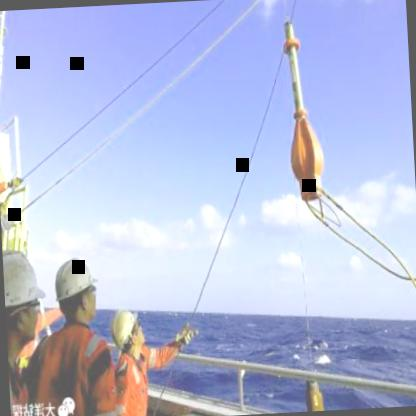helmet: (2, 246, 45, 348), (50, 249, 102, 330), (107, 308, 146, 357)
